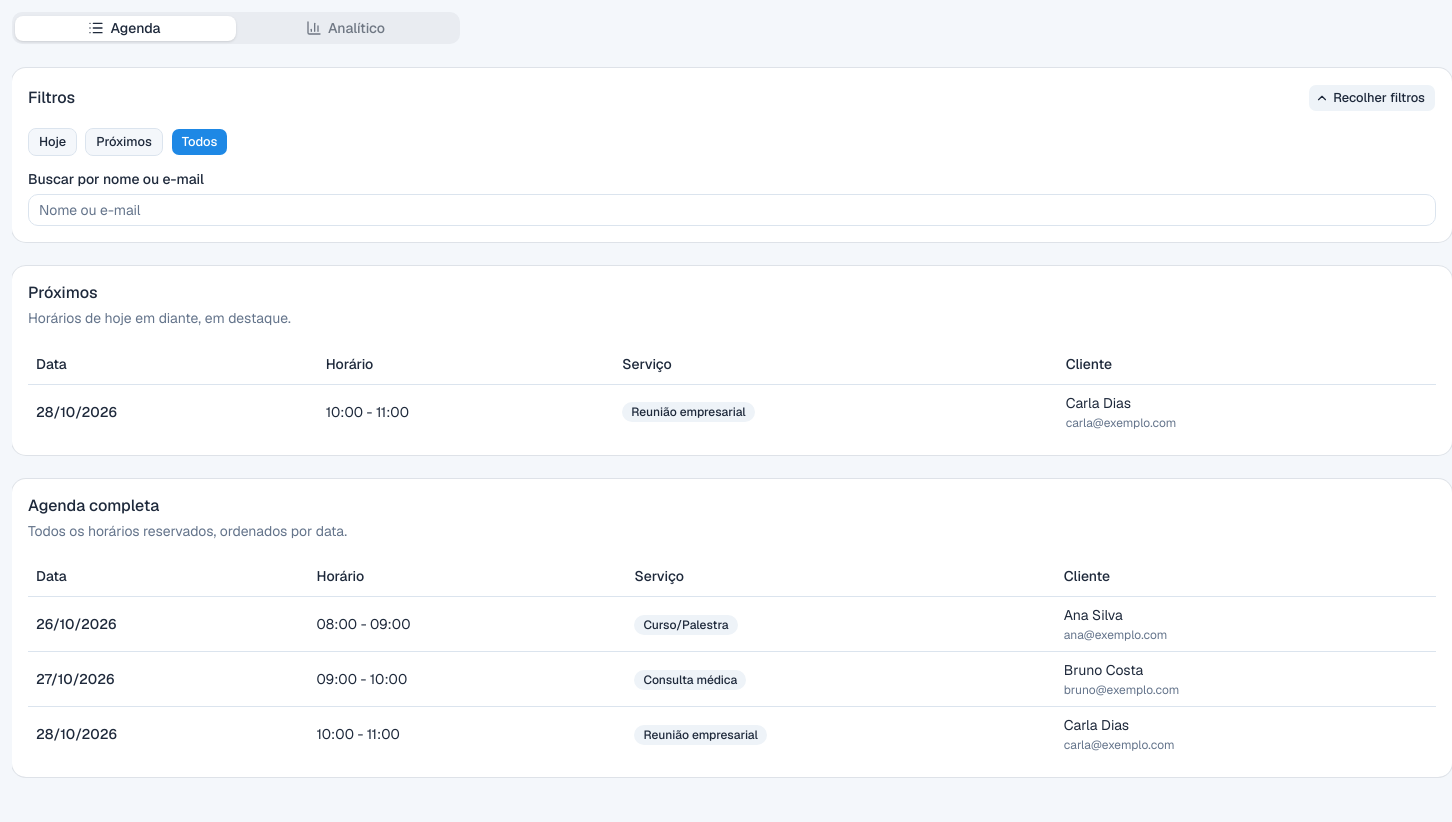
Test: PainelAdmin › recolher filtros oculta controles e mantém Próximos e listagem
Click the button "Recolher filtros" at (1372, 98), box [1308, 84, 1436, 112]
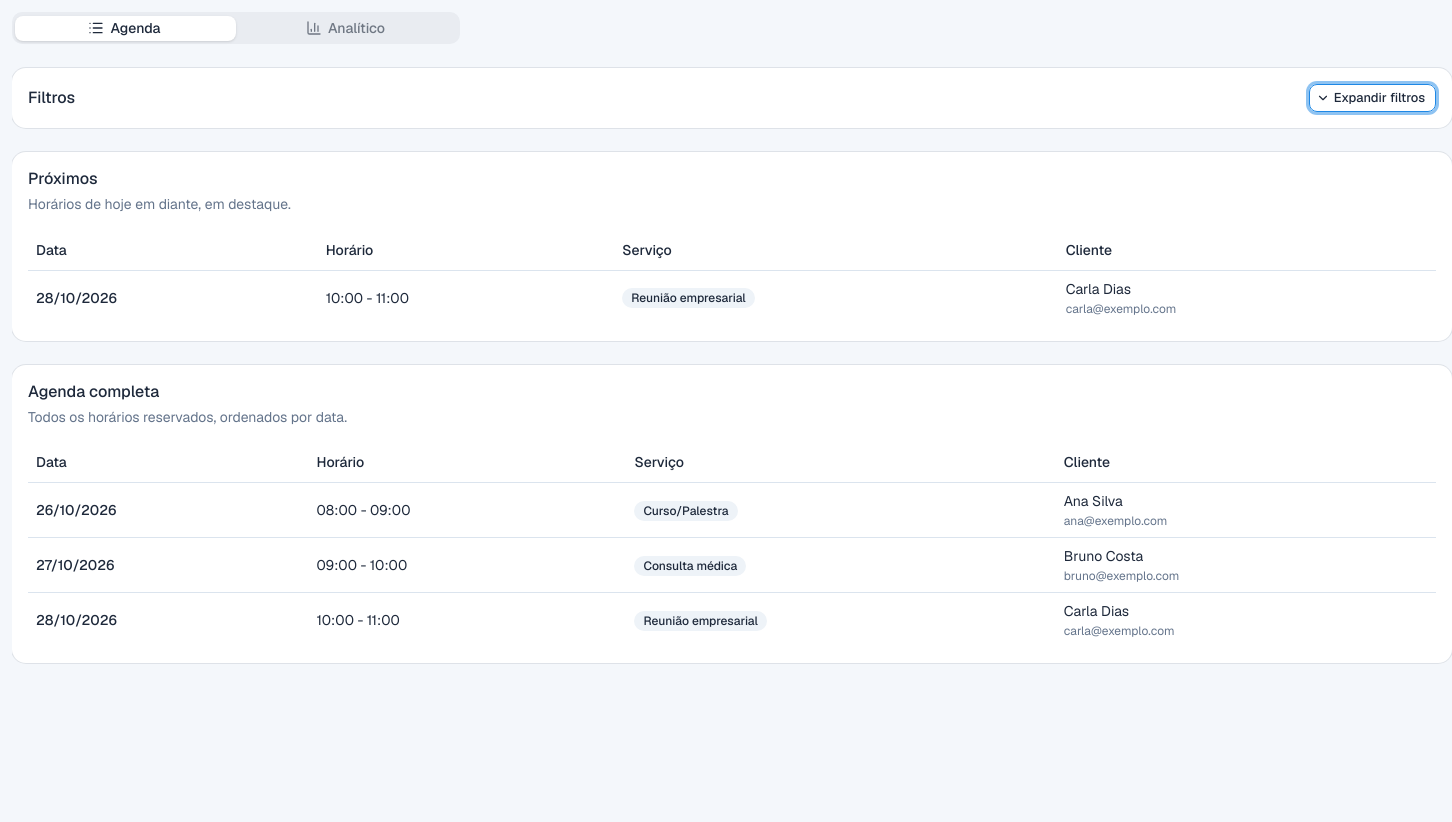
Expected: the text "Horários de hoje em diante, em destaque." is shown, [28, 195, 291, 213]
Result: the label labelled "Buscar por nome ou e-mail" is gone
